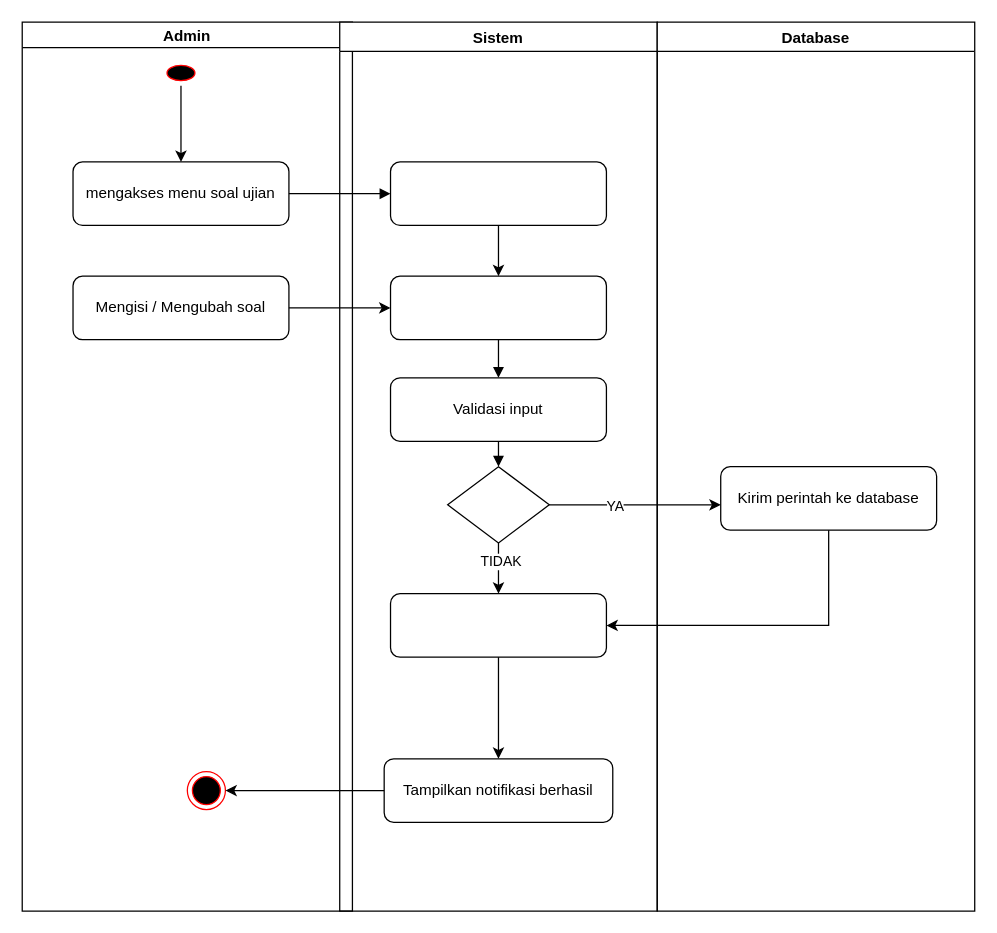
The diagram is 997 pixels wide and 933 high, and some of its shapes have lost their labels. Each missing label, with the centre of its shape:
"hasil validasi" belongs at [497,504].
"Tampilkan daftar soal" belongs at [497,193].
"Tampilkan error" belongs at [497,624].
"Tampilkan form/detail soal" belongs at [497,307].
